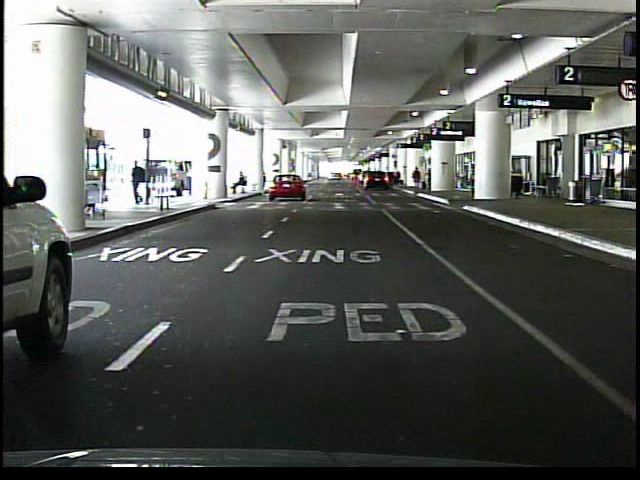person: (132, 160, 148, 207), (231, 171, 249, 195), (468, 162, 477, 200), (412, 165, 423, 193)
